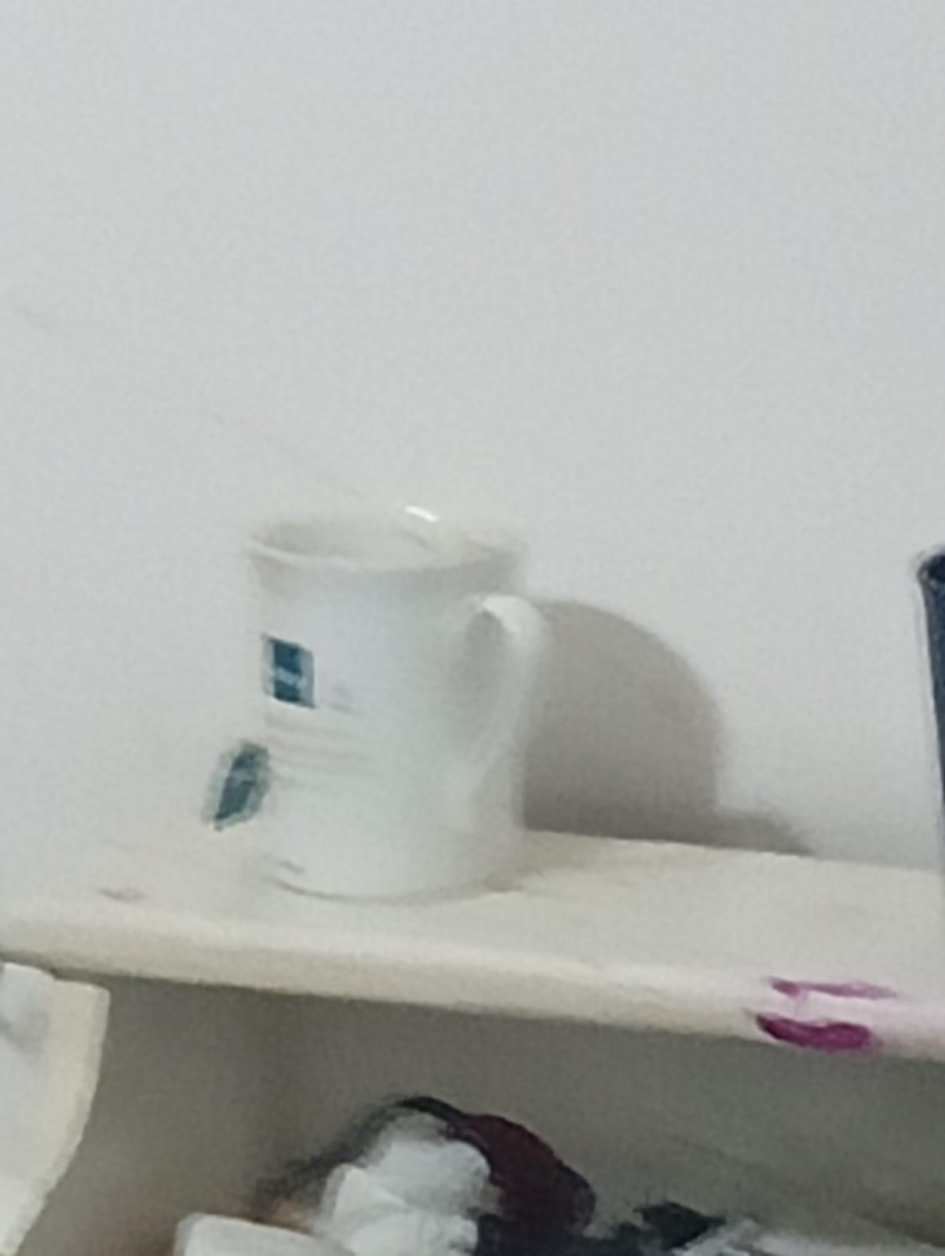cup: (250, 510, 543, 896)
